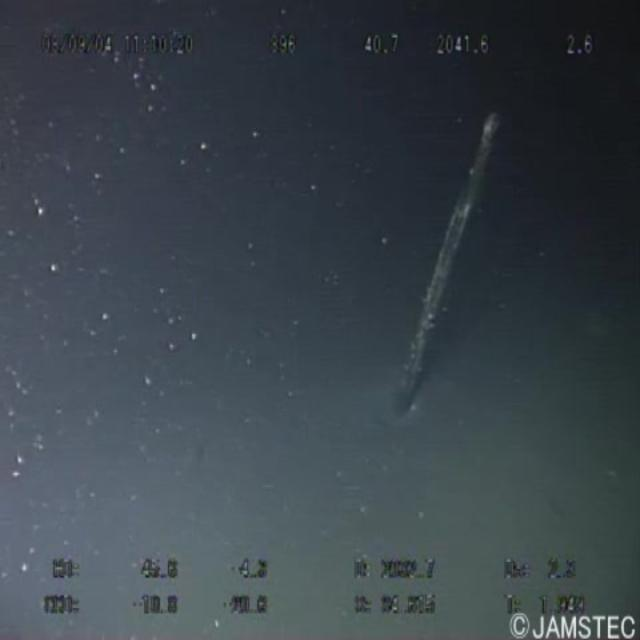Metal: (396, 84, 508, 460)
